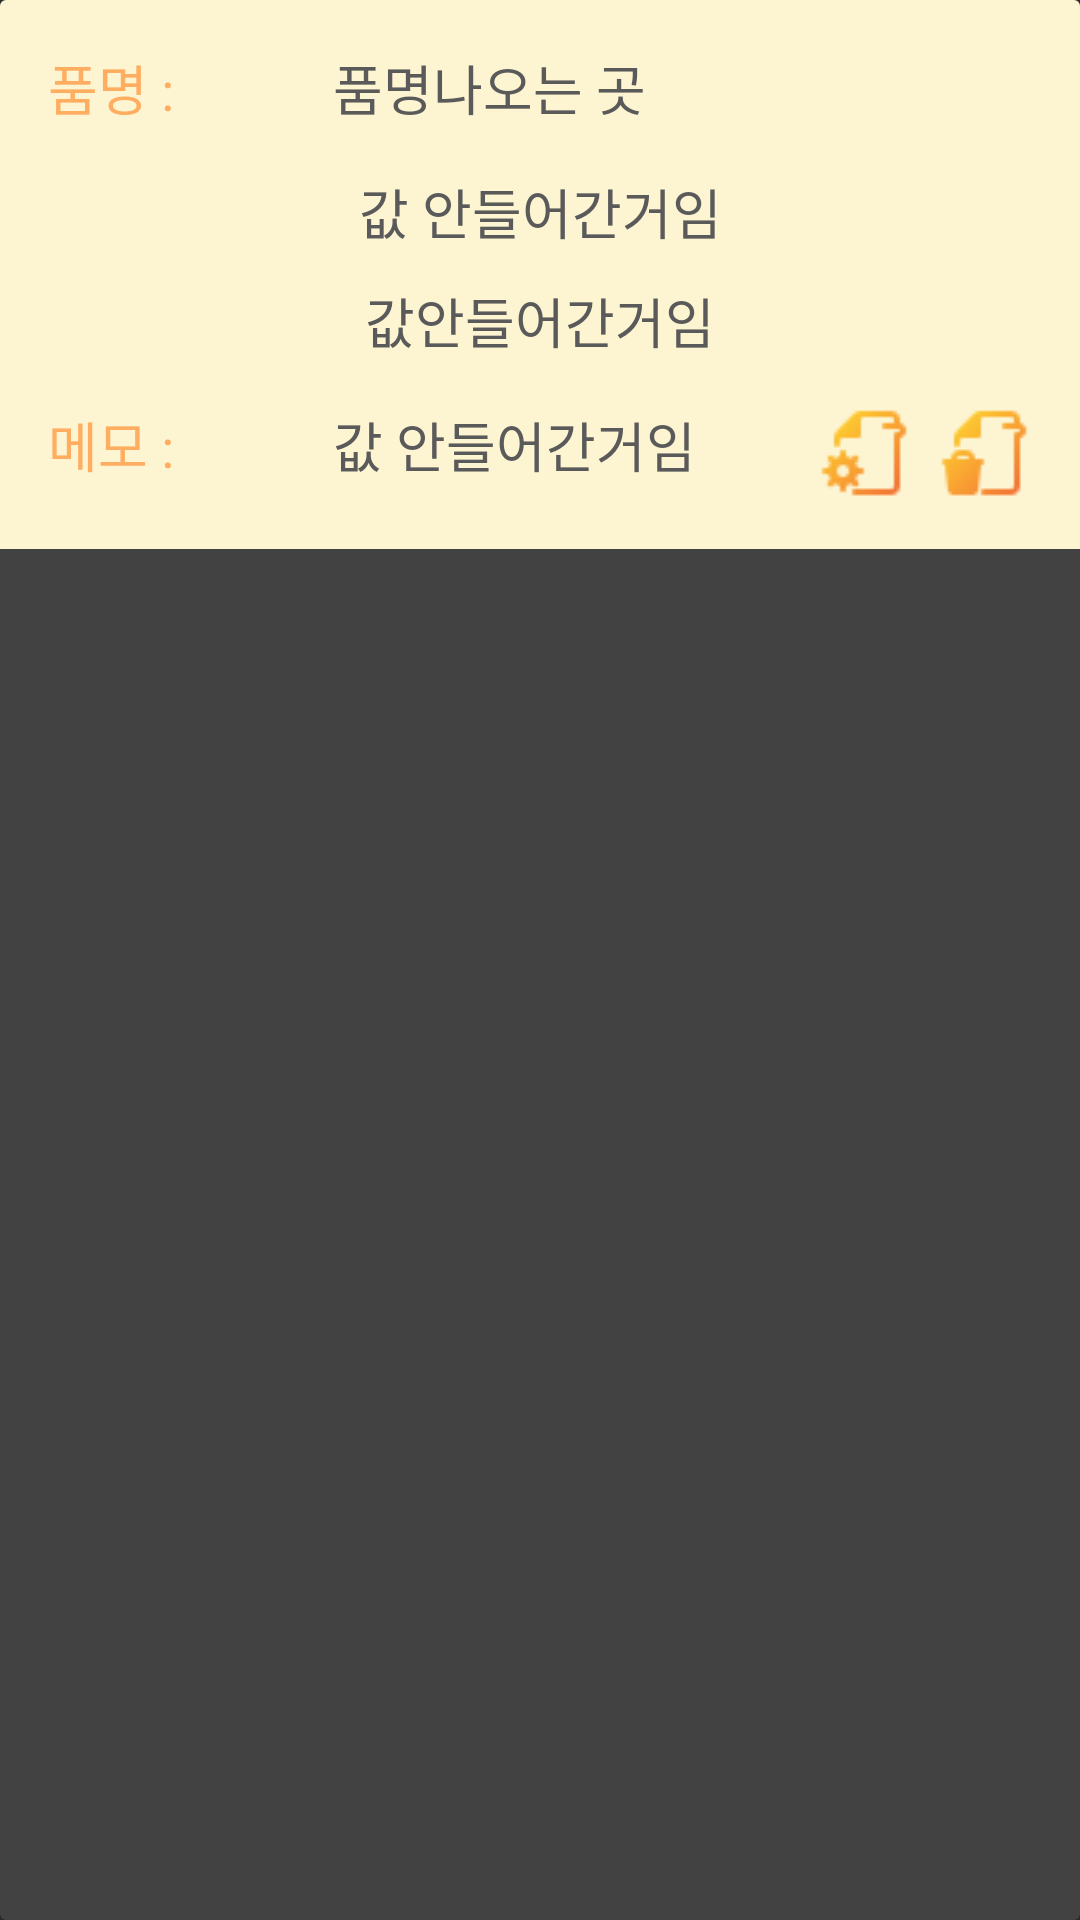

Point at icon controls on the screen. Image size 1080 × 1920, points as (x=x, y=y).
delete: (x=984, y=453)
